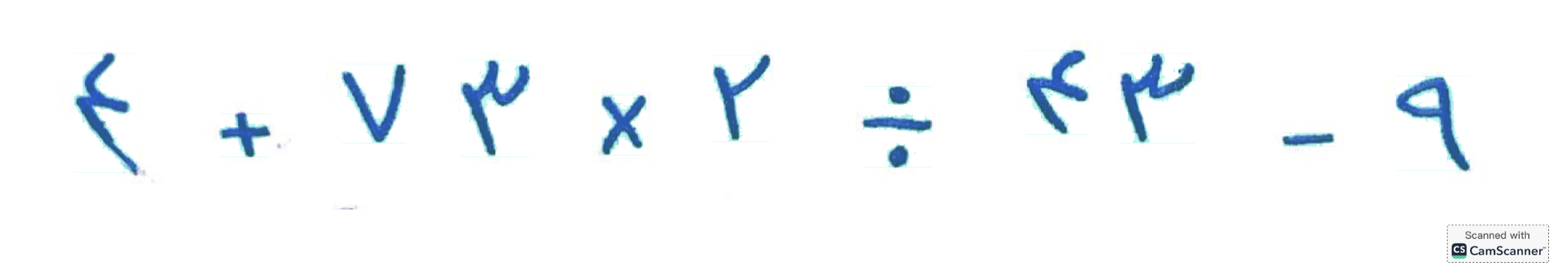character: (95, 131, 213, 264), (824, 131, 929, 266), (670, 133, 763, 275), (517, 136, 605, 275), (1138, 133, 1233, 251), (1273, 113, 1341, 274), (319, 198, 404, 275), (1461, 198, 1527, 275), (977, 226, 1062, 246)
